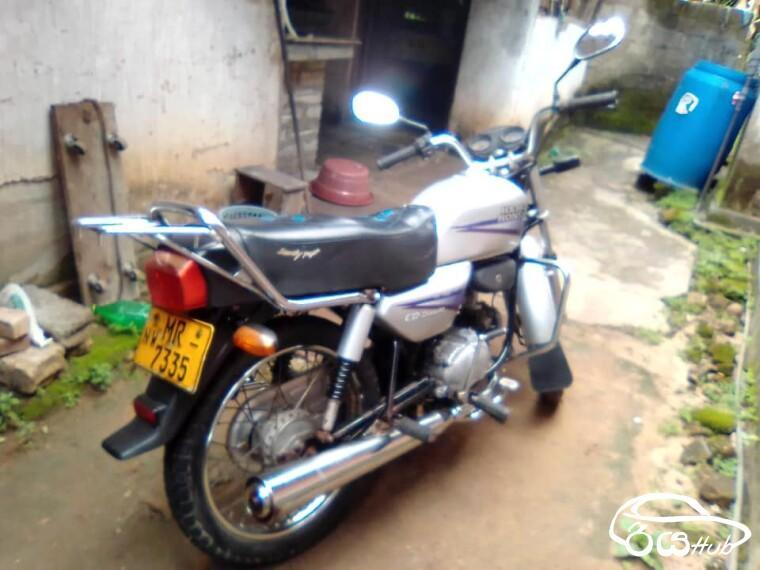motorbike: (68, 15, 623, 570)
